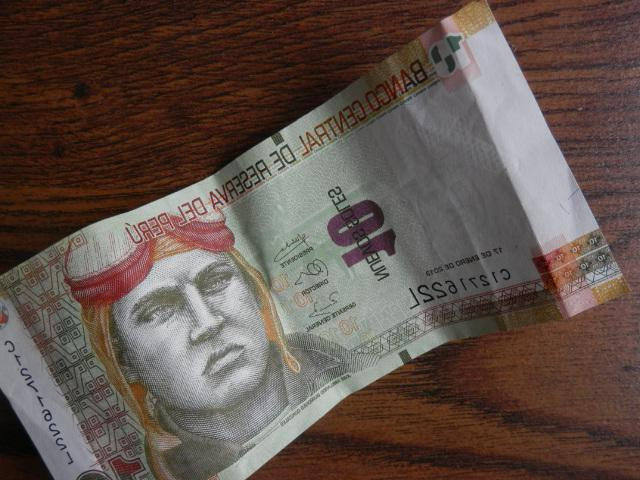B10: (1, 1, 630, 477)
